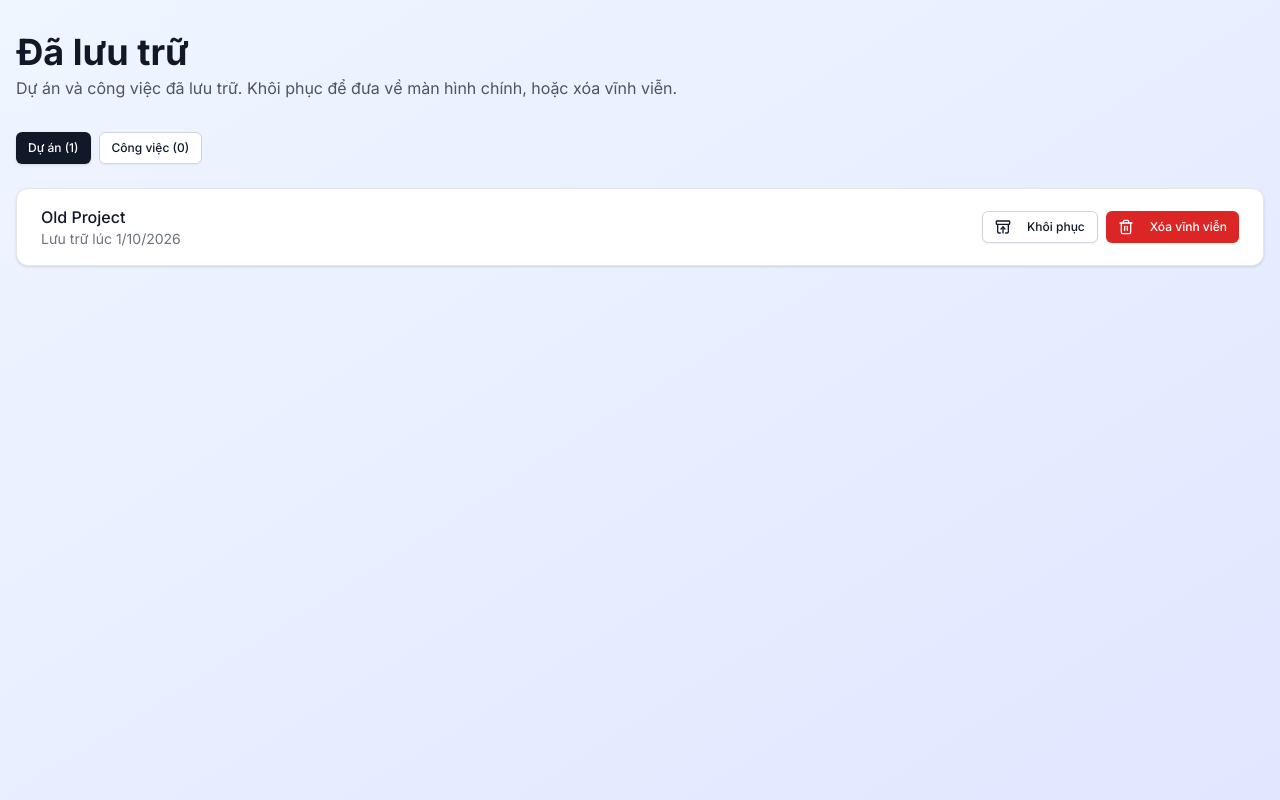
it: Archived page › permanently deletes an archived project after confirming in the AlertDialog
The width and height of the screenshot is (1280, 800).
expect the text "Old Project" is shown: met, box x1=41 y1=207 x2=125 y2=227
What coordinates should you click on to do the following:
click the button "Xóa vĩnh viễn"
I would click on:
 (1172, 227)
Its box is x1=1106 y1=211 x2=1239 y2=243.
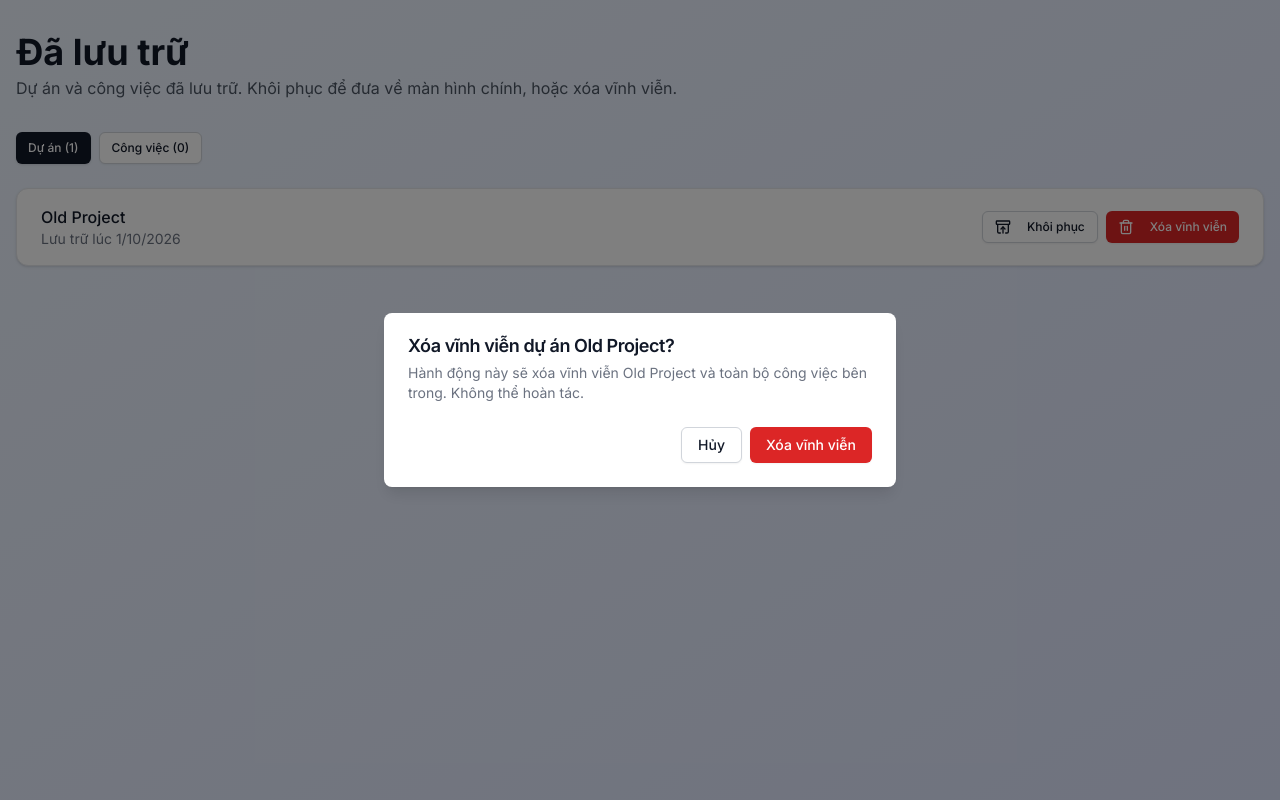
expect the heading "Xóa vĩnh viễn dự án Old Project?" is shown: met, box x1=408 y1=335 x2=674 y2=356
What coordinates should you click on to do the following:
click the button "Xóa vĩnh viễn"
I would click on:
 (811, 445)
Its box is x1=750 y1=427 x2=872 y2=463.
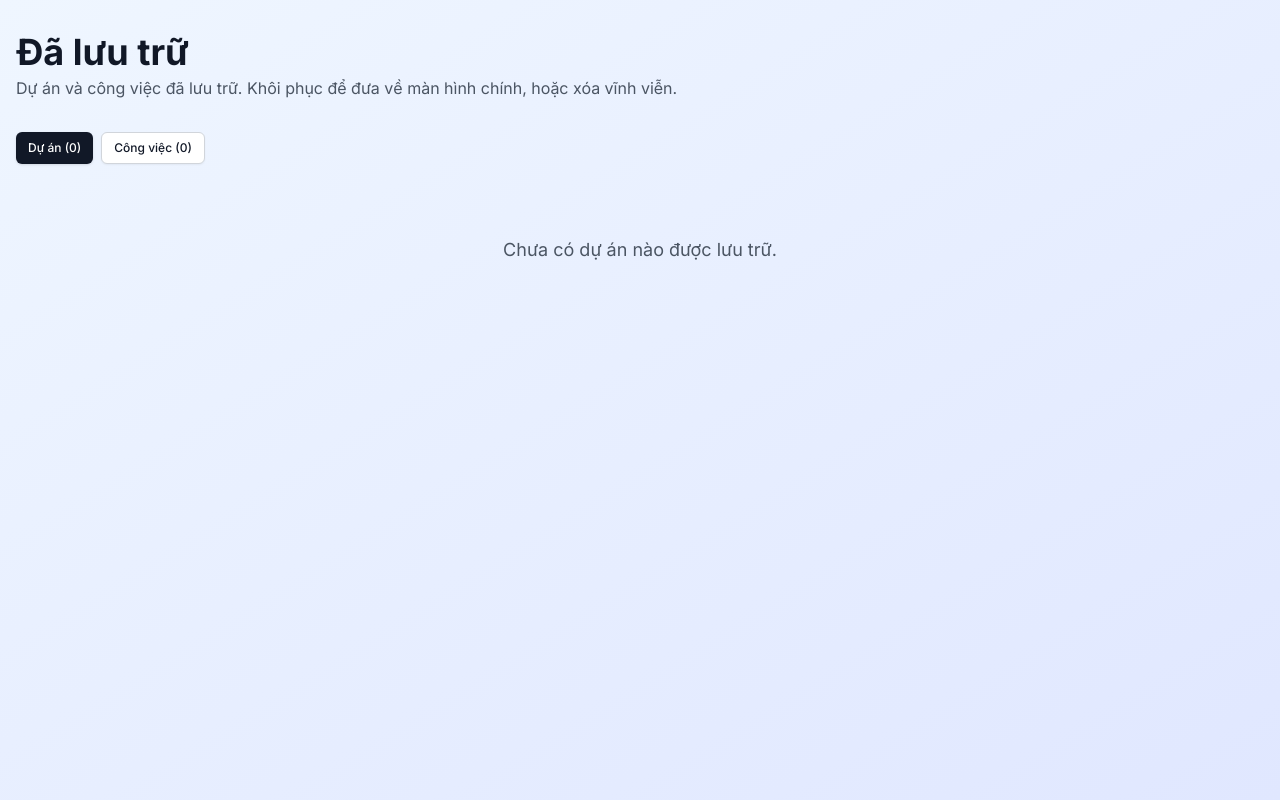
expect the text "Old Project" is gone: met
